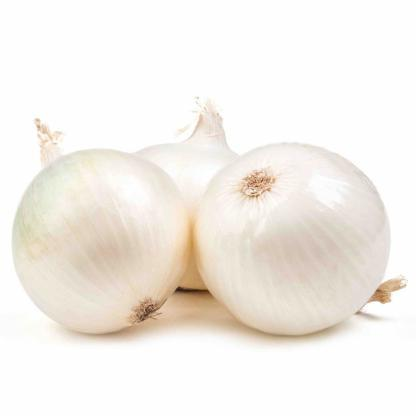onion: (8, 144, 195, 338)
